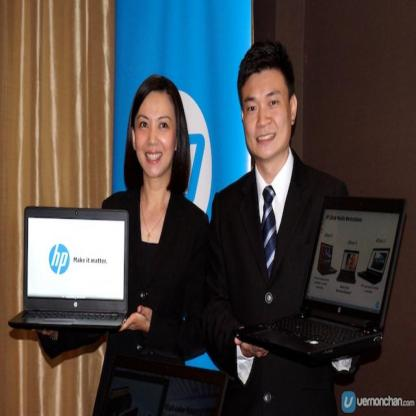board: (246, 205, 392, 382), (9, 206, 129, 328)
